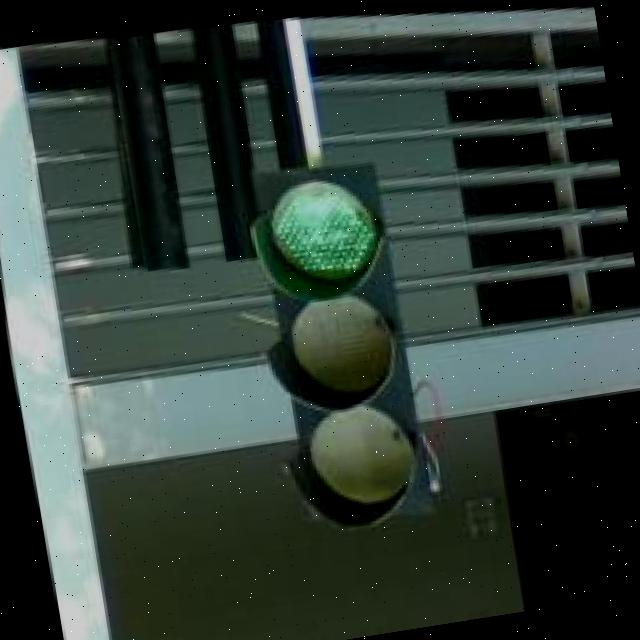green_light: (216, 138, 454, 540)
